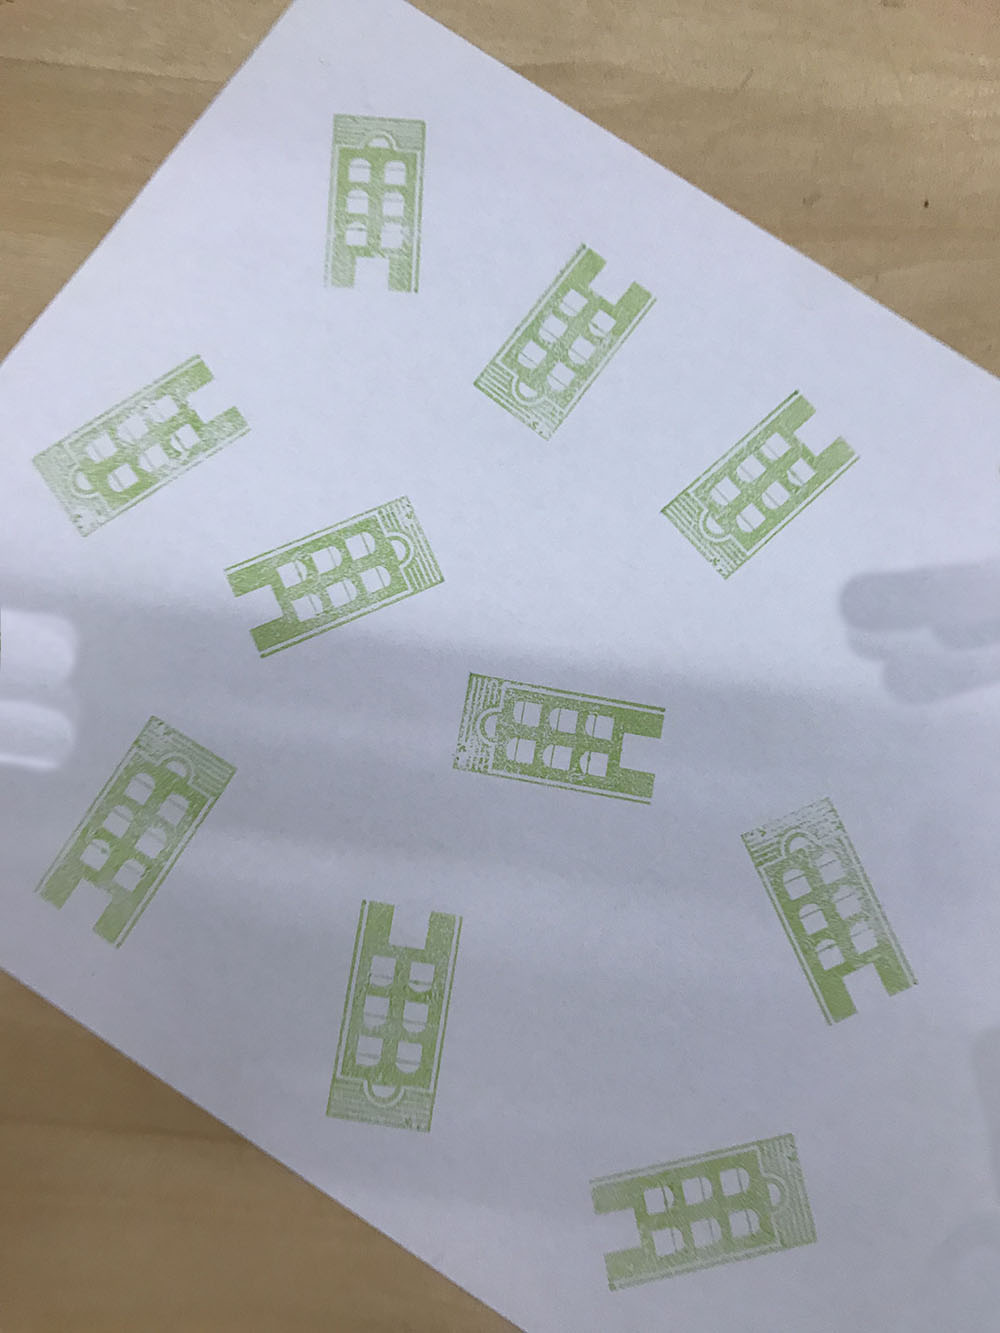build: (25, 682, 257, 958), (728, 772, 935, 1061), (646, 357, 881, 603), (297, 865, 482, 1174), (15, 336, 277, 554), (446, 225, 678, 463), (432, 647, 689, 831), (207, 494, 464, 671), (570, 1128, 831, 1297), (309, 74, 450, 331)
